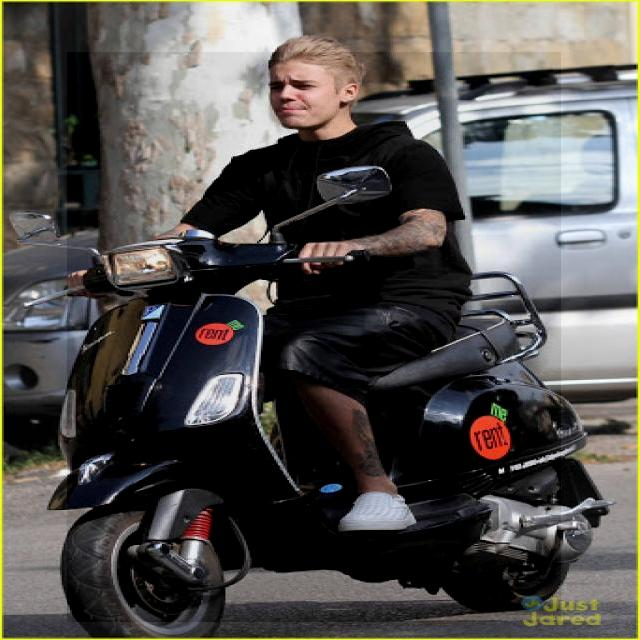Bike: (68, 52, 562, 622)
